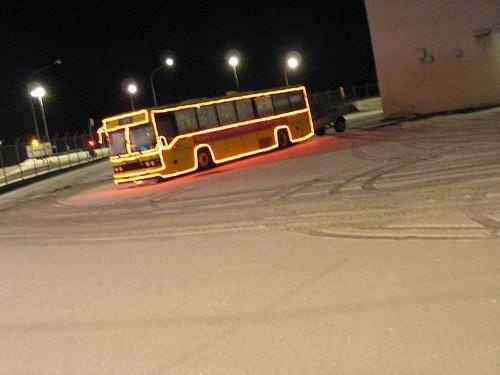bus: (97, 85, 314, 187)
